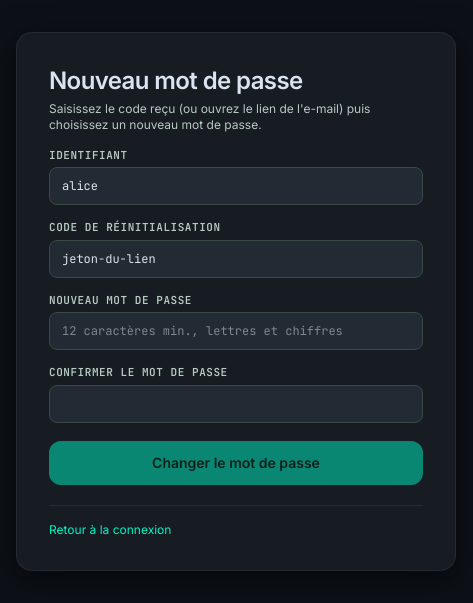
Test: Mot de passe oublié › préremplit identifiant et code depuis le lien et enregistre le nouveau mot de passe
Expected: the field labelled "Identifiant" holds "alice", [49,167,423,205]
Type "NouveauMdp2026!" into the password field labelled "Nouveau mot de passe" at point(236, 331), box [49,312,423,350]
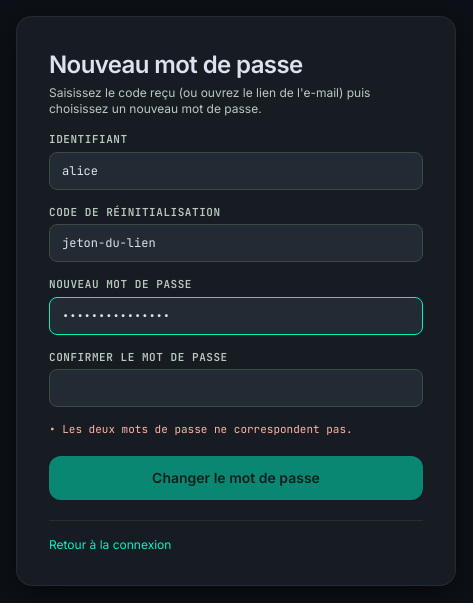
Type "NouveauMdp2026!" into the password field labelled "Confirmer le mot de passe" at point(236, 388), box [49,369,423,407]
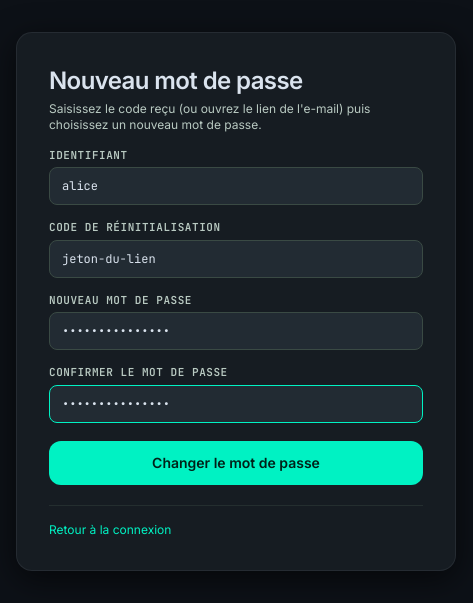
Click the button "Changer le mot de passe" at point(236, 462), box [49,440,423,484]
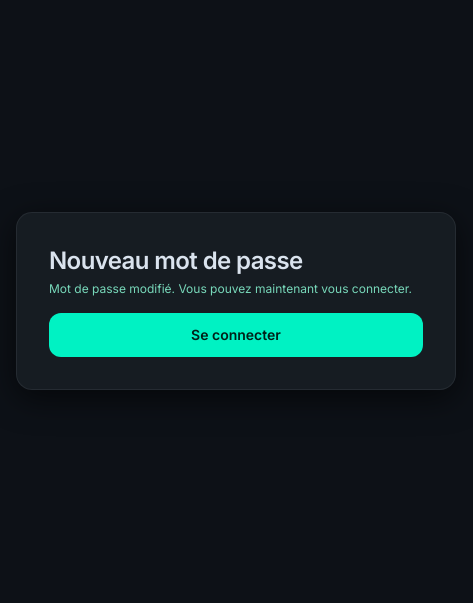
Result: the element with test id "reset-reussi" is shown at [49,281,423,357]
